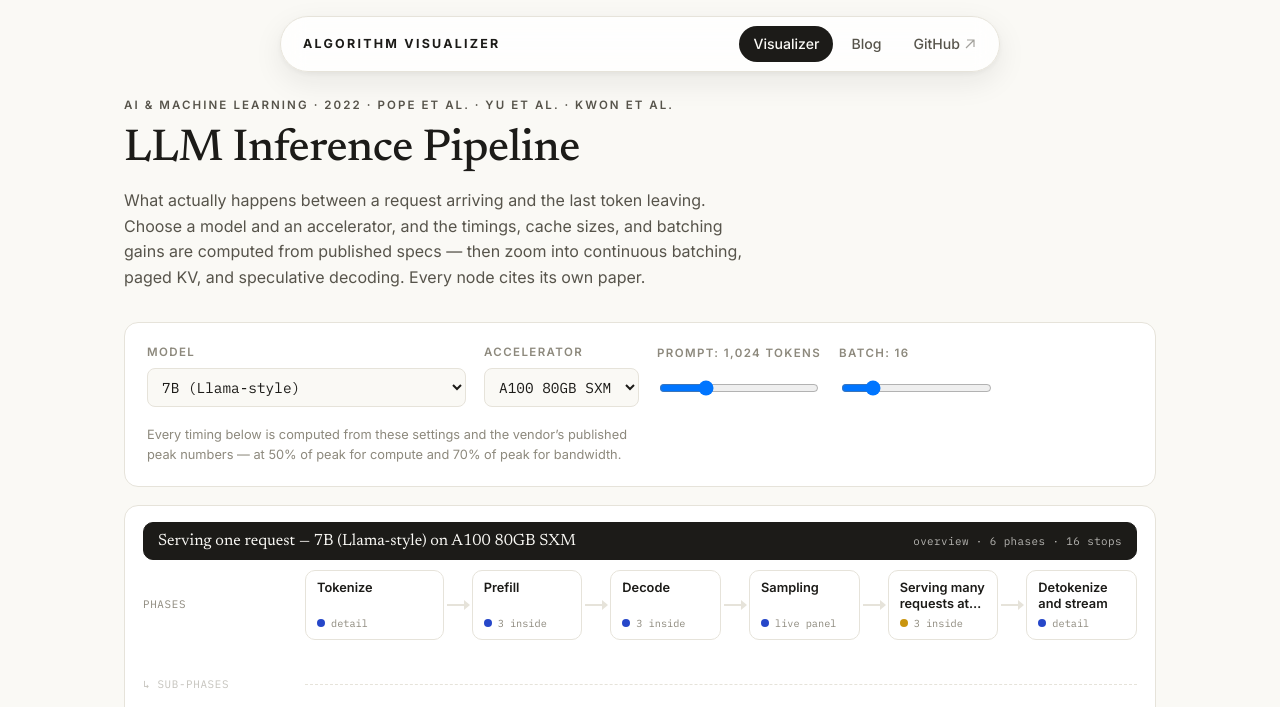
Test: phase player › jumps to any phase from the rails and restores it from the deep link
Click the button with aria-label "sampling — logits to a token" at (804, 605), box [749,570,860,640]
(page scrolled)
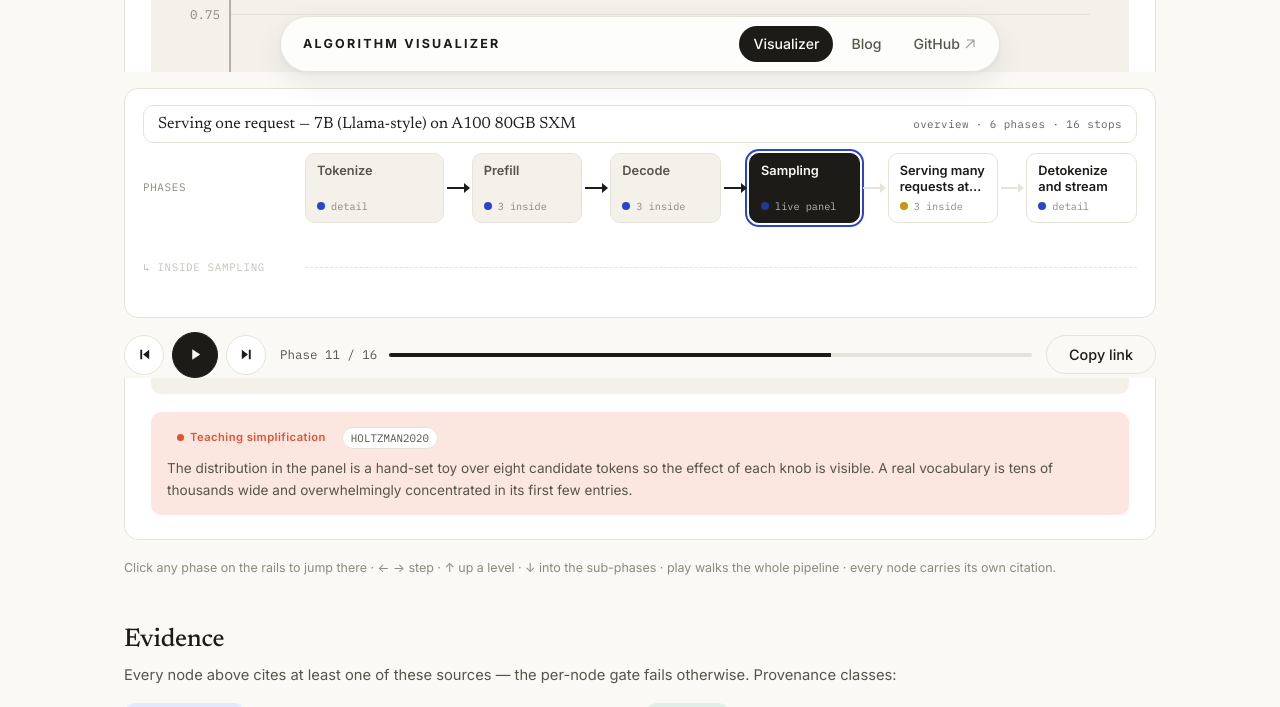
Check: the text "Phase 11 / 16" is shown, box [280,345,377,365]
Check: the slider labelled "Temperature: 1.00" is shown, box [167,344,318,378]
